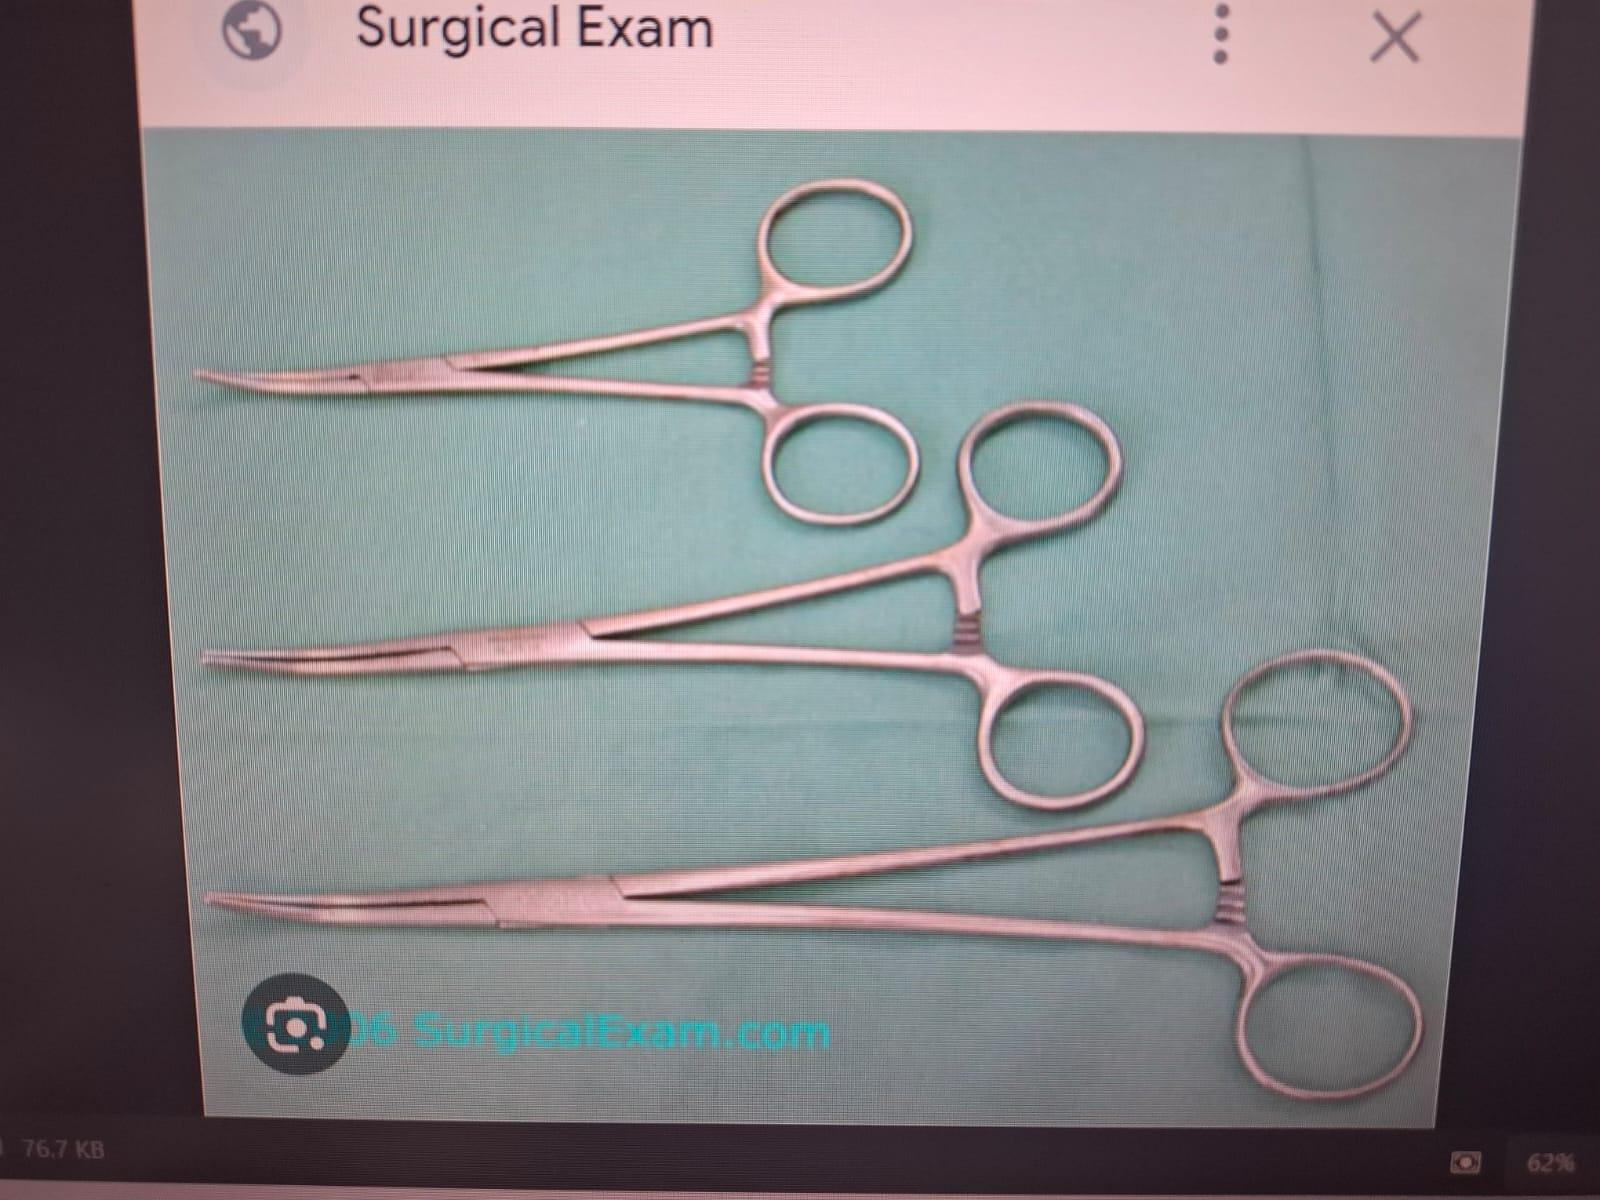Artery Forceps: (172, 644, 1468, 1116), (190, 392, 1150, 826), (184, 164, 940, 532)
